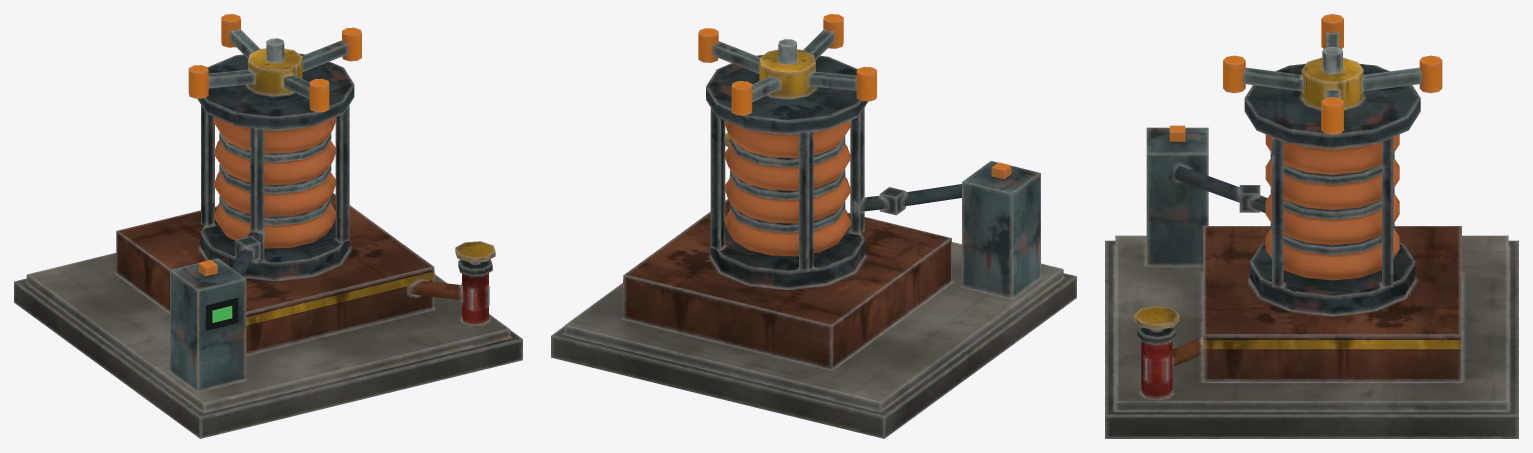
Rendered from mining_optimizer.glb.
3 views of the same model, side by side, from view 1: azimuth 30°, elevation 25°; view 2: azimuth 150°, elevation 25°; view 3: azimuth 270°, elevation 25° (orthographic). The views are drawn at different scales.
Visible parts, largest first — view 1: te_mining_optimizer, move_rotor; view 2: te_mining_optimizer, move_rotor; view 3: te_mining_optimizer, move_rotor.
Boxes of the visible parts, <box> form: te_mining_optimizer: <box>14,53,522,438</box>; move_rotor: <box>188,14,361,112</box>; te_mining_optimizer: <box>551,55,1076,438</box>; move_rotor: <box>698,14,876,115</box>; te_mining_optimizer: <box>1105,63,1518,438</box>; move_rotor: <box>1223,14,1442,134</box>.
Bounding box in the file's own units: 0.8 × 0.66 × 0.8.
1 material, 1 textured.
